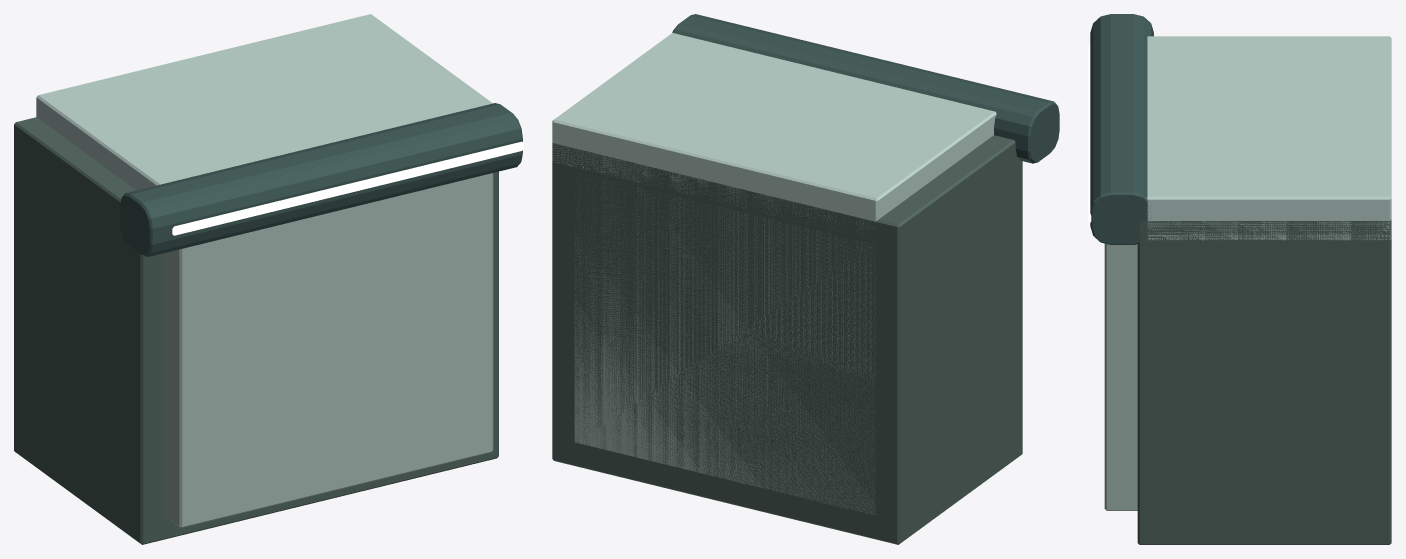
The model's file is Terrain_TopRun1L.gltf.
3 renders of one model, left to right at view 1: azimuth 30°, elevation 25°; view 2: azimuth 150°, elevation 25°; view 3: azimuth 270°, elevation 25°, orthographic. The views are drawn at different scales.
Visible parts, largest first — view 1: Terrain_TopRun1L_baked; view 2: Terrain_TopRun1L_baked; view 3: Terrain_TopRun1L_baked.
Part boxes in pixels (x1,y1,x2,y2): Terrain_TopRun1L_baked: (14,14,523,544); Terrain_TopRun1L_baked: (552,14,1059,544); Terrain_TopRun1L_baked: (1088,14,1391,544).
Size of the model in its own units: 1.04 by 0.9495 by 0.74.
